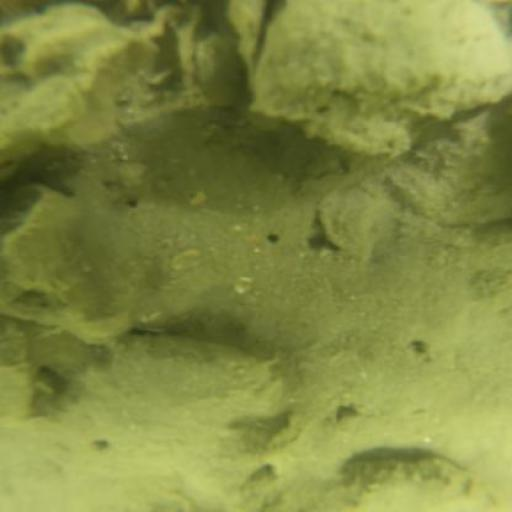Oyster-Closed: (50, 331, 295, 483)
Oyster-Open: (234, 1, 512, 168)
